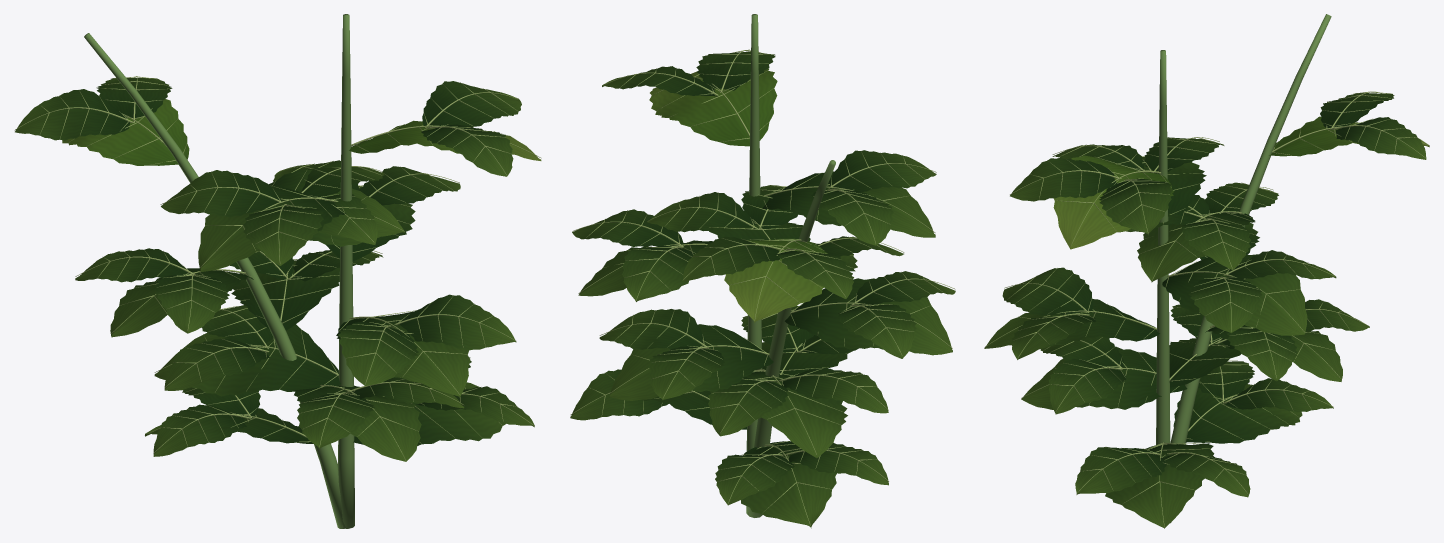
Rendered from dahlia-05.glb.
3 renders of one model, left to right at view 1: azimuth 30°, elevation 25°; view 2: azimuth 150°, elevation 25°; view 3: azimuth 270°, elevation 25°, orthographic. The views are drawn at different scales.
Parts seen in each view (by area): view 1: dahlia_stage_05_leaf_veins.008, dahlia_stage_05_raised_midveins.008, dahlia_stage_05_stem_fibres.008, dahlia_stage_05_young_leaf.008; view 2: dahlia_stage_05_leaf_veins.008, dahlia_stage_05_raised_midveins.008, dahlia_stage_05_young_leaf.008, dahlia_stage_05_stem_fibres.008; view 3: dahlia_stage_05_leaf_veins.008, dahlia_stage_05_raised_midveins.008, dahlia_stage_05_stem_fibres.008, dahlia_stage_05_young_leaf.008.
Boxes of the visible parts, left/top/right/bottom form: dahlia_stage_05_leaf_veins.008: left=15, top=78, right=534, bottom=461; dahlia_stage_05_raised_midveins.008: left=14, top=76, right=541, bottom=460; dahlia_stage_05_stem_fibres.008: left=84, top=14, right=354, bottom=528; dahlia_stage_05_young_leaf.008: left=62, top=99, right=541, bottom=165; dahlia_stage_05_leaf_veins.008: left=570, top=51, right=955, bottom=528; dahlia_stage_05_raised_midveins.008: left=570, top=49, right=955, bottom=527; dahlia_stage_05_young_leaf.008: left=649, top=68, right=827, bottom=322; dahlia_stage_05_stem_fibres.008: left=746, top=14, right=835, bottom=517; dahlia_stage_05_leaf_veins.008: left=984, top=93, right=1426, bottom=528; dahlia_stage_05_raised_midveins.008: left=984, top=91, right=1428, bottom=527; dahlia_stage_05_stem_fibres.008: left=1156, top=14, right=1331, bottom=523; dahlia_stage_05_young_leaf.008: left=1053, top=116, right=1429, bottom=249.
Size of the model in its own units: 0.2022 by 0.2547 by 0.2181.
Materials: 4 (2 with a texture image).
